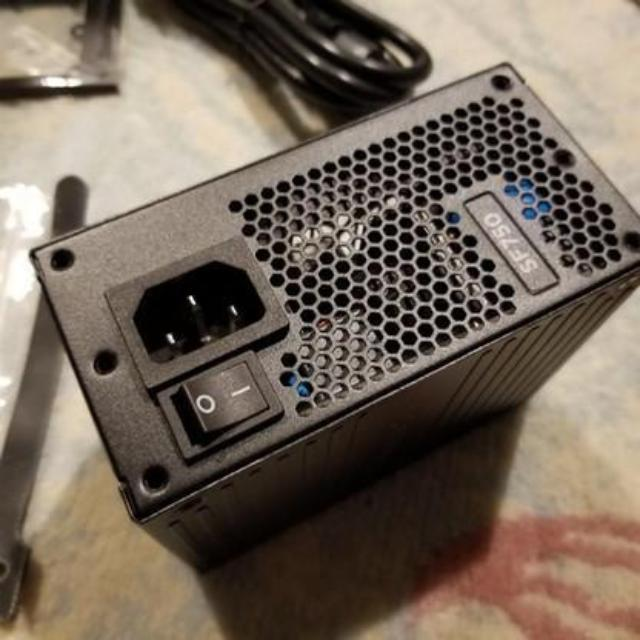PSU: (18, 50, 640, 541)
